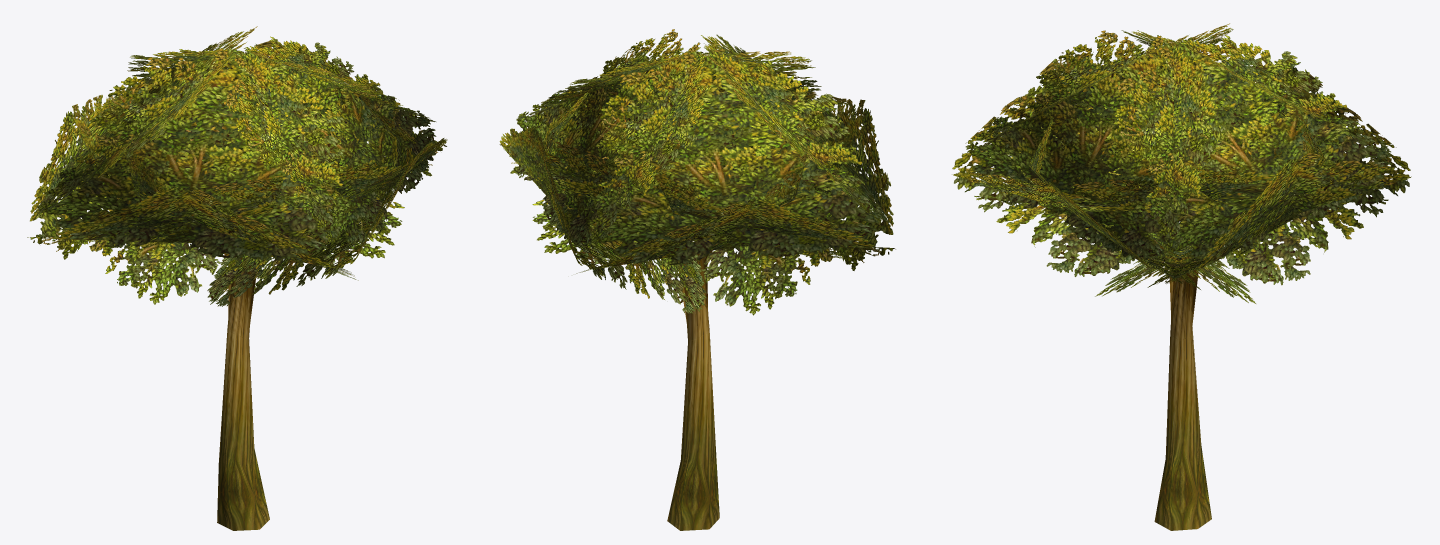
File: canopylesstree01.glb
3 views of the same model, side by side, from view 1: azimuth 30°, elevation 25°; view 2: azimuth 150°, elevation 25°; view 3: azimuth 270°, elevation 25° (orthographic).
Bounding box in the file's own units: 79 × 82.55 × 76.46.
2 materials, 2 textured.
